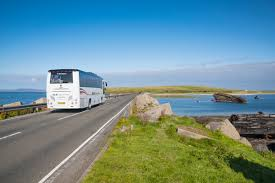bus: (45, 68, 109, 112)
